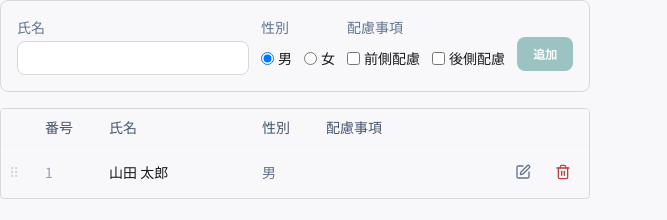
Test case: StudentTable › 編集キャンセルで変更が破棄される
This screenshot has width=667, height=220.
Click the button named "を編集": {"x": 523, "y": 172} 505,154 -> 541,190
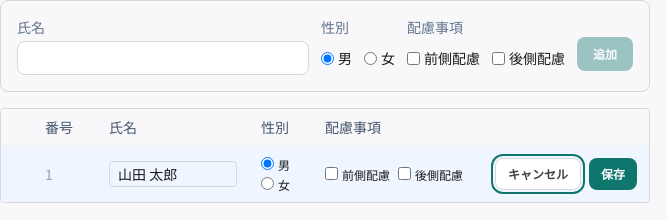
Replace the text in the field showing "山田 太郎" with "変更後": {"x": 173, "y": 174} 109,161 -> 237,187
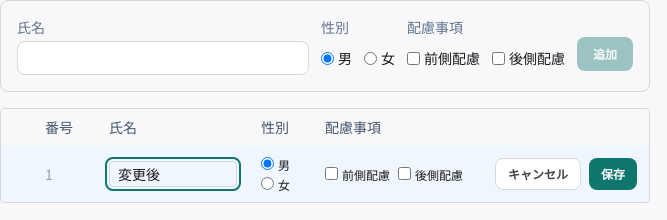
Click the button "キャンセル": {"x": 538, "y": 174} 495,158 -> 581,190
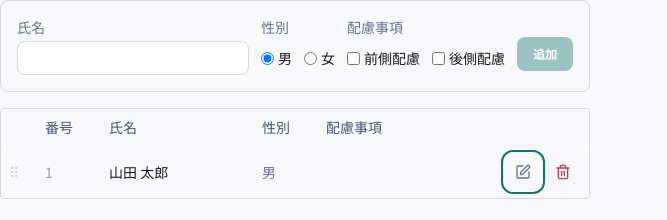
Now the cell "山田 太郎" is shown, box 97,146 -> 250,198
